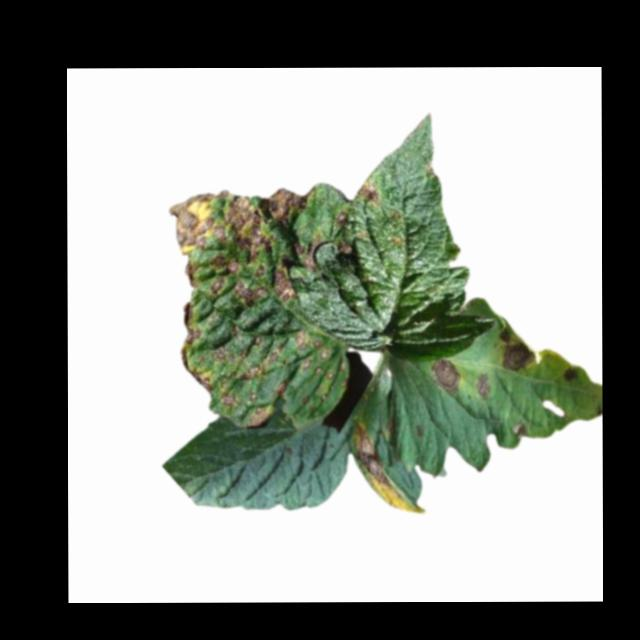Early_blight: (167, 188, 352, 428), (351, 420, 426, 517), (498, 331, 538, 372), (431, 357, 462, 394), (475, 370, 496, 399), (511, 422, 531, 442), (361, 182, 380, 203), (337, 242, 356, 258), (563, 368, 579, 385)
